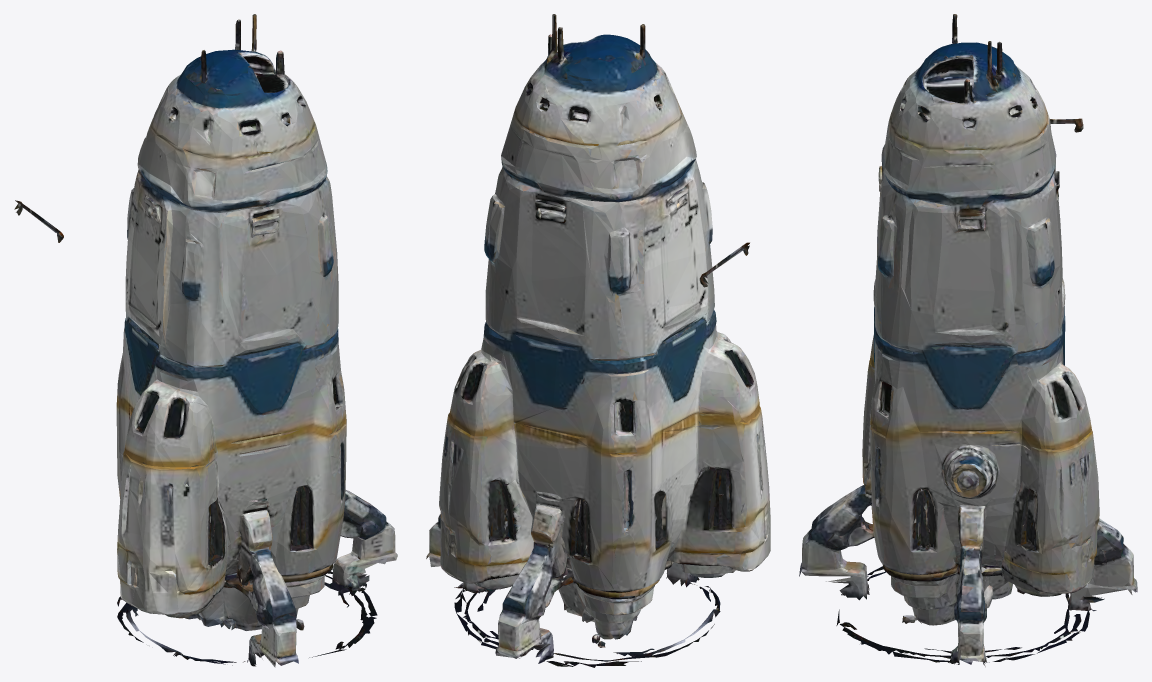
Rendered from neptuno_cohete.obj.
3 views of the same model, side by side, from view 1: azimuth 30°, elevation 25°; view 2: azimuth 150°, elevation 25°; view 3: azimuth 270°, elevation 25° (orthographic). The views are drawn at different scales.
Bounding box in the file's own units: 15.25 × 26.43 × 13.94.
Materials: 1 (1 with a texture image).
